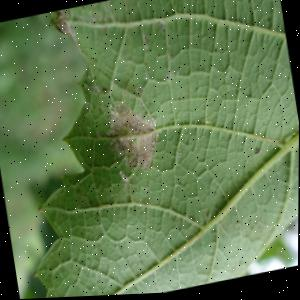Folha: (0, 0, 300, 300)
Fungo: (101, 93, 165, 180), (53, 7, 79, 42), (119, 170, 130, 188)
